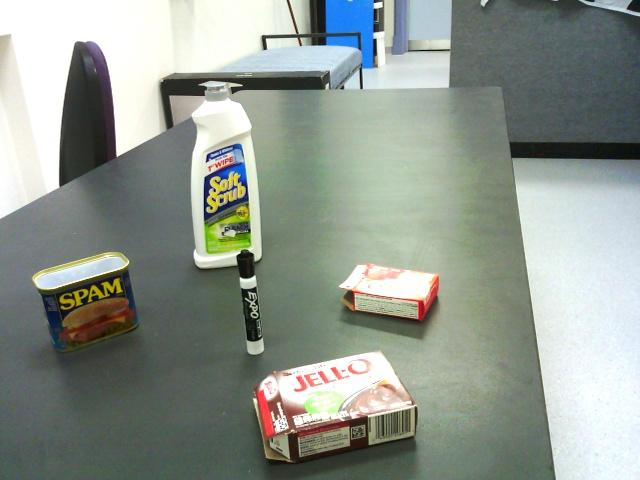008_pudding_box: (252, 346, 424, 466)
009_gelatin_box: (342, 254, 440, 324)
010_potted_meat_can: (34, 243, 139, 356)
021_bleach_cleanser: (186, 66, 267, 272)
040_large_marker: (234, 247, 268, 359)
